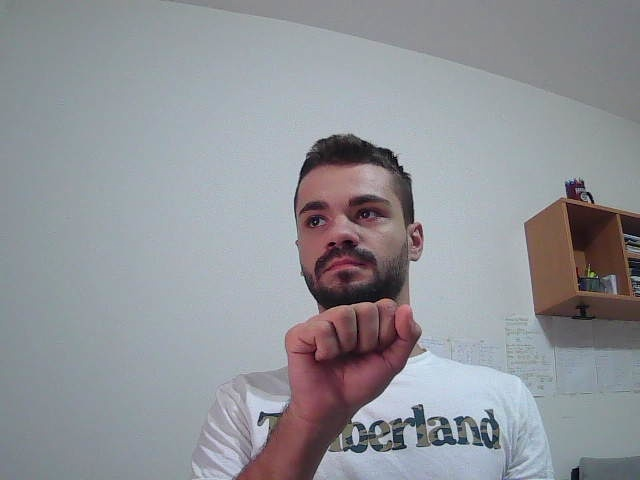a: (268, 293, 423, 480)
